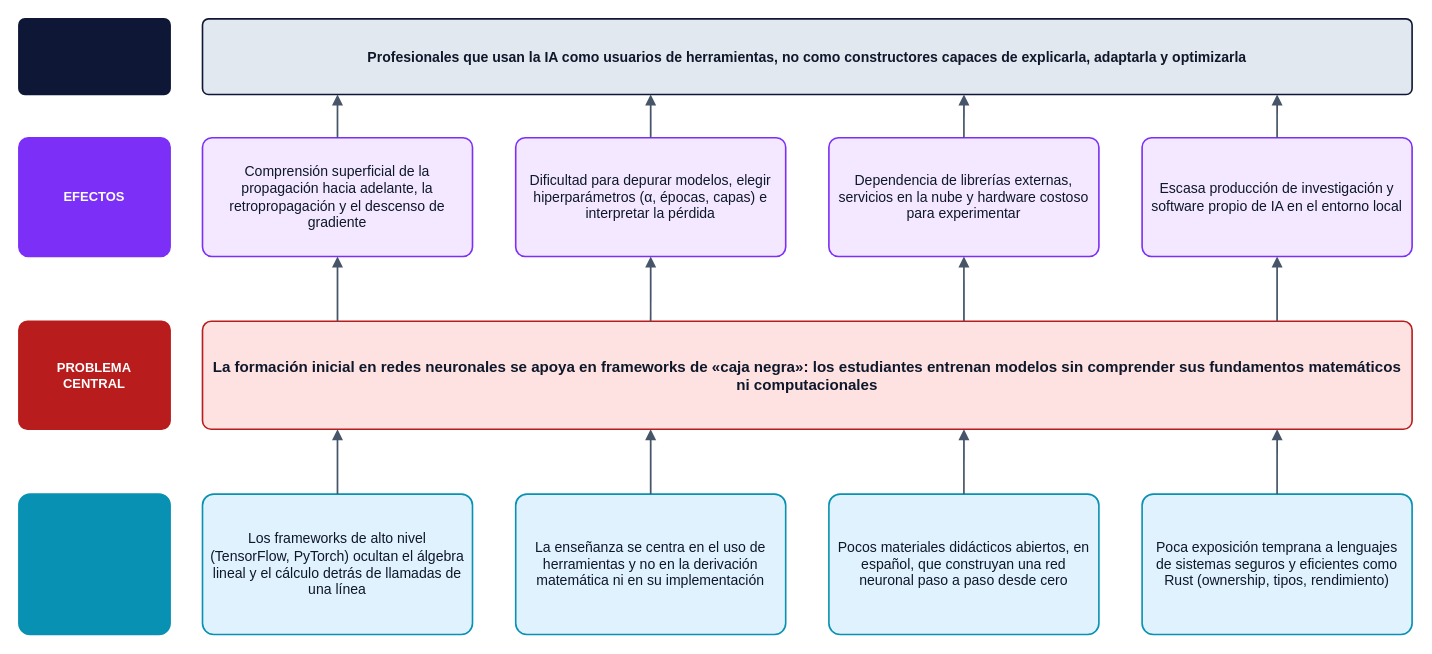
This 1432x654 diagram has some shape labels left out. Here are the shapes that lost their labels. From the top down, the box of each, then its label:
(18, 18, 170, 95): EFECTO FINAL
(18, 493, 170, 635): CAUSAS
